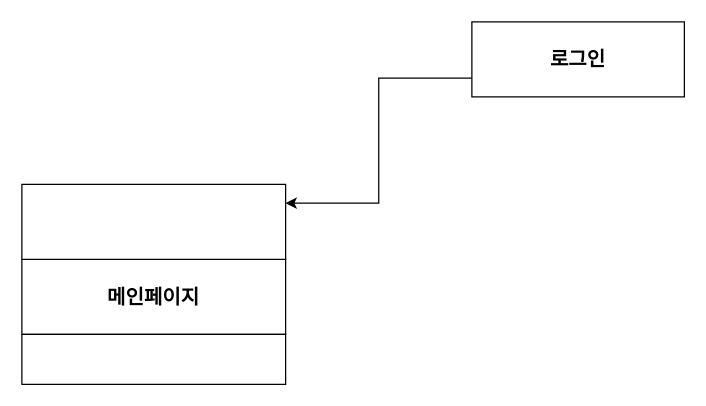
This 706x406 diagram has some shape labels left out. The shapes that lost their labels are listed below. From the top down, each one's centre as x and y in pixels, then its label:
the point at 153,221: 네비게이션바
the point at 153,358: 푸터
